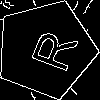R: (20, 24, 79, 74)
